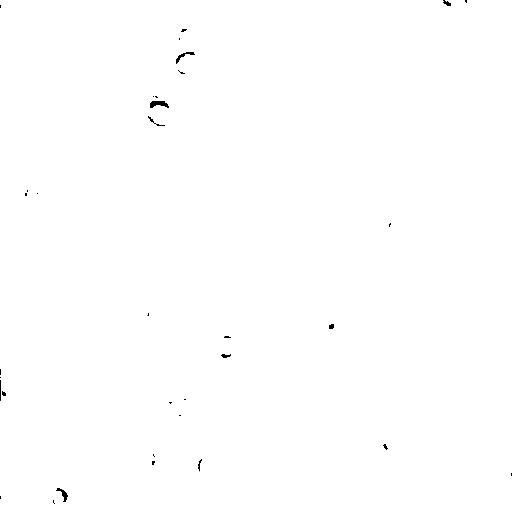micro-algae: (105, 29, 196, 110), (350, 185, 422, 256), (465, 91, 511, 176), (205, 129, 254, 178), (402, 455, 451, 501), (349, 11, 388, 51), (182, 437, 219, 473), (305, 43, 342, 78), (130, 151, 167, 186), (171, 21, 203, 52), (26, 131, 53, 164), (155, 385, 182, 417), (110, 265, 135, 297), (118, 49, 151, 73), (489, 103, 512, 137), (321, 309, 347, 339), (79, 484, 109, 510), (1, 368, 23, 403), (173, 48, 201, 75), (146, 100, 172, 127), (493, 455, 511, 492), (69, 270, 95, 295), (377, 427, 402, 452), (249, 283, 275, 307), (258, 471, 280, 499), (373, 494, 407, 512), (150, 457, 177, 479), (214, 357, 240, 379), (163, 83, 187, 105), (454, 1, 489, 16), (215, 337, 239, 357), (198, 453, 218, 477), (386, 215, 405, 239), (31, 427, 53, 447), (307, 316, 328, 336), (298, 283, 320, 301), (141, 447, 159, 469), (135, 296, 152, 319), (51, 486, 69, 507), (0, 484, 23, 500), (21, 183, 43, 199), (432, 0, 461, 12), (175, 399, 195, 416), (7, 501, 35, 511), (1, 0, 26, 11), (60, 0, 77, 15), (195, 501, 214, 511)
